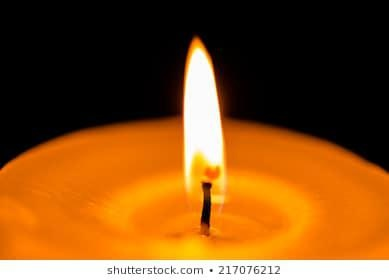fire: (180, 31, 225, 194)
